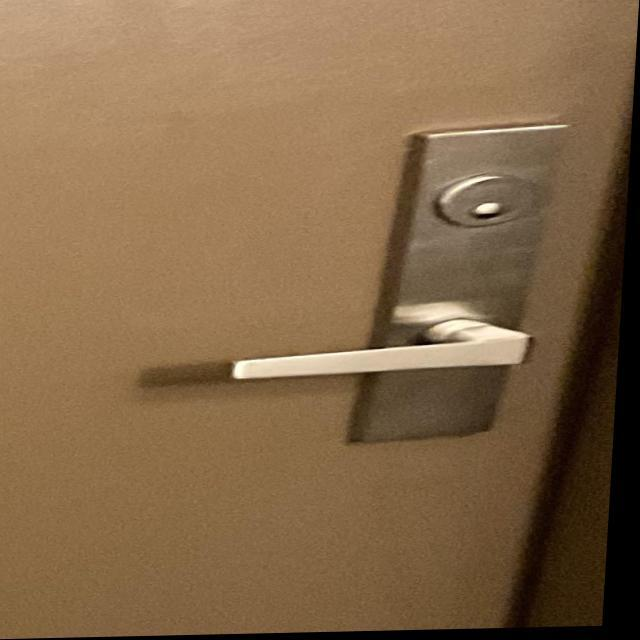door_handle: (208, 301, 574, 402)
